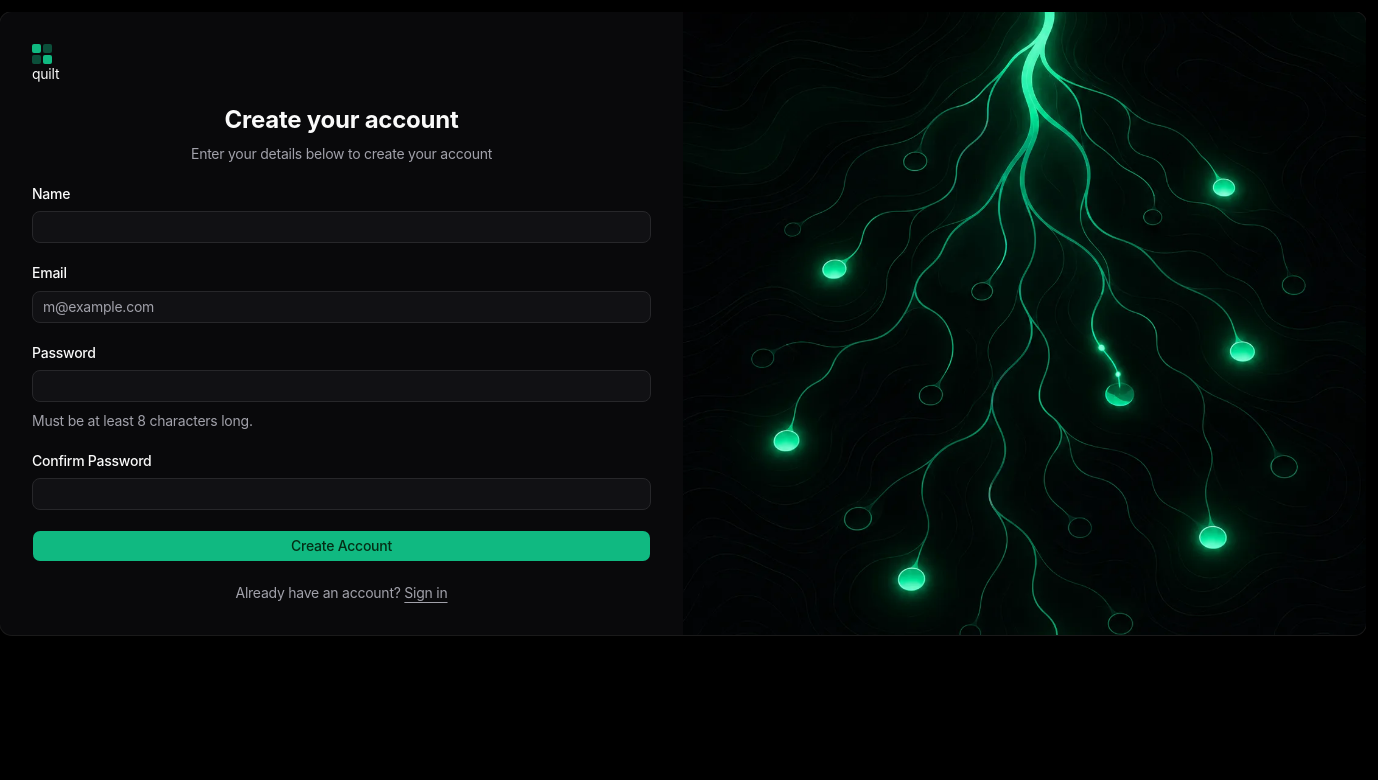
SignupForm › shows validation errors and does not submit invalid input
This screenshot has width=1378, height=780.
Type "A" into the field labelled "Name".
click(342, 227); type("A")  # box x1=32 y1=211 x2=651 y2=243
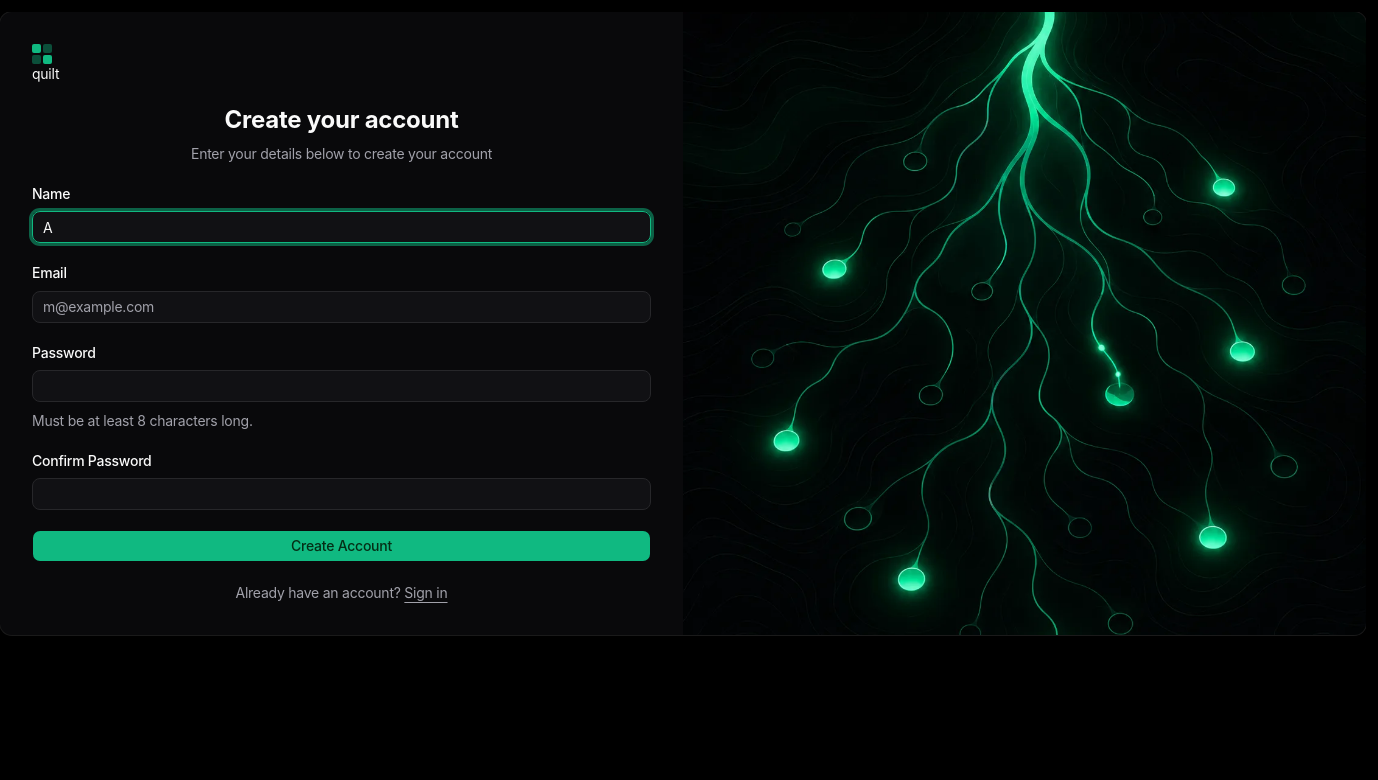
Type "ada@example" into the field labelled "Email".
click(342, 306); type("ada@example")  # box x1=32 y1=290 x2=651 y2=322
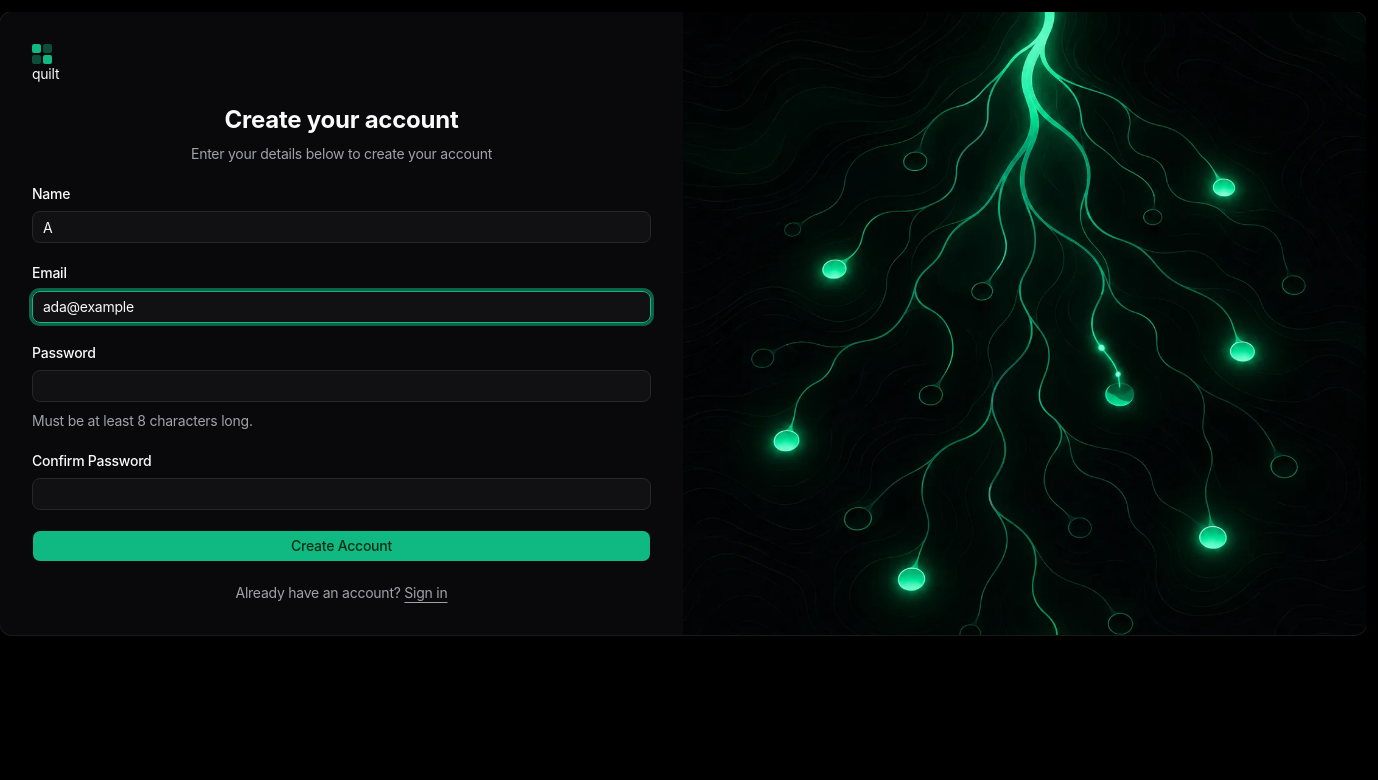
Type "short" into the password field labelled "Password".
click(342, 386); type("short")  # box x1=32 y1=370 x2=651 y2=402
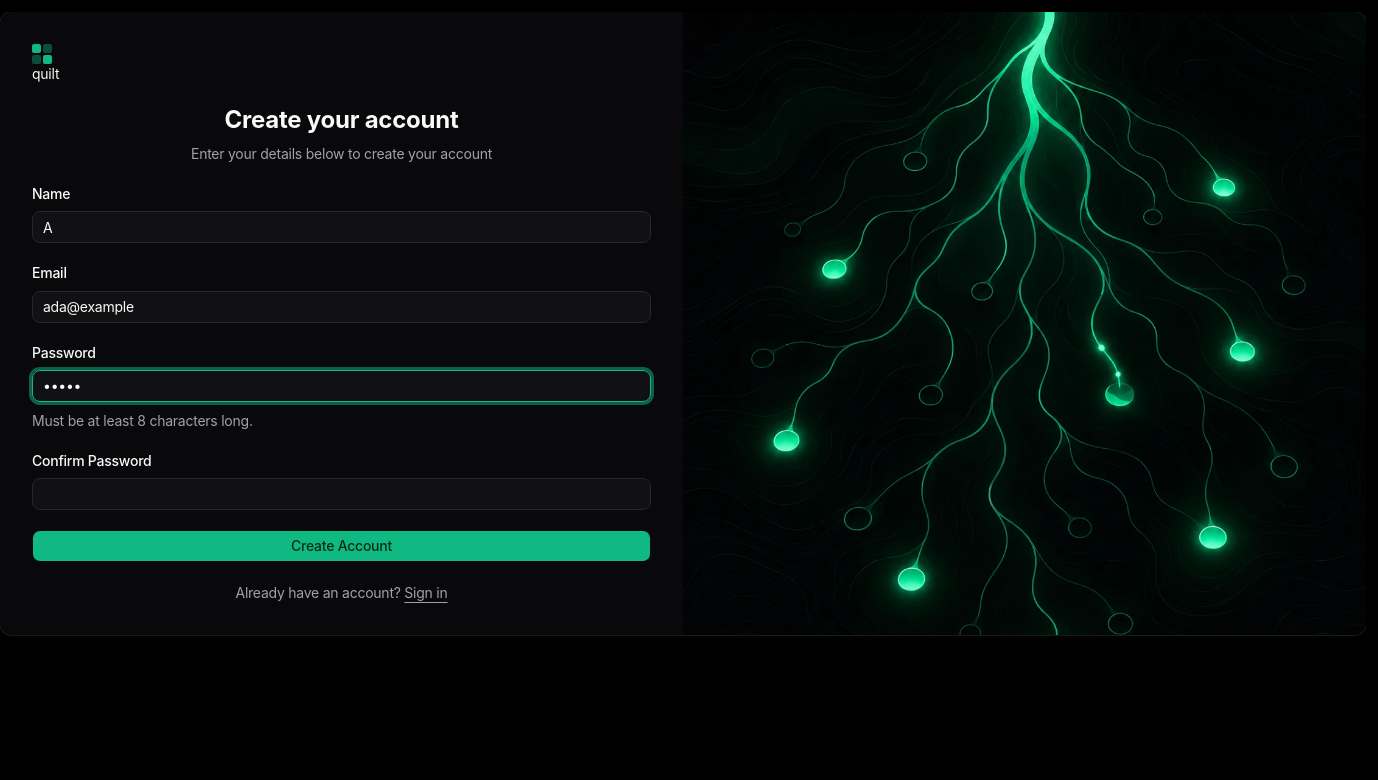
Type "short" into the password field labelled "Confirm Password".
click(342, 494); type("short")  # box x1=32 y1=478 x2=651 y2=510
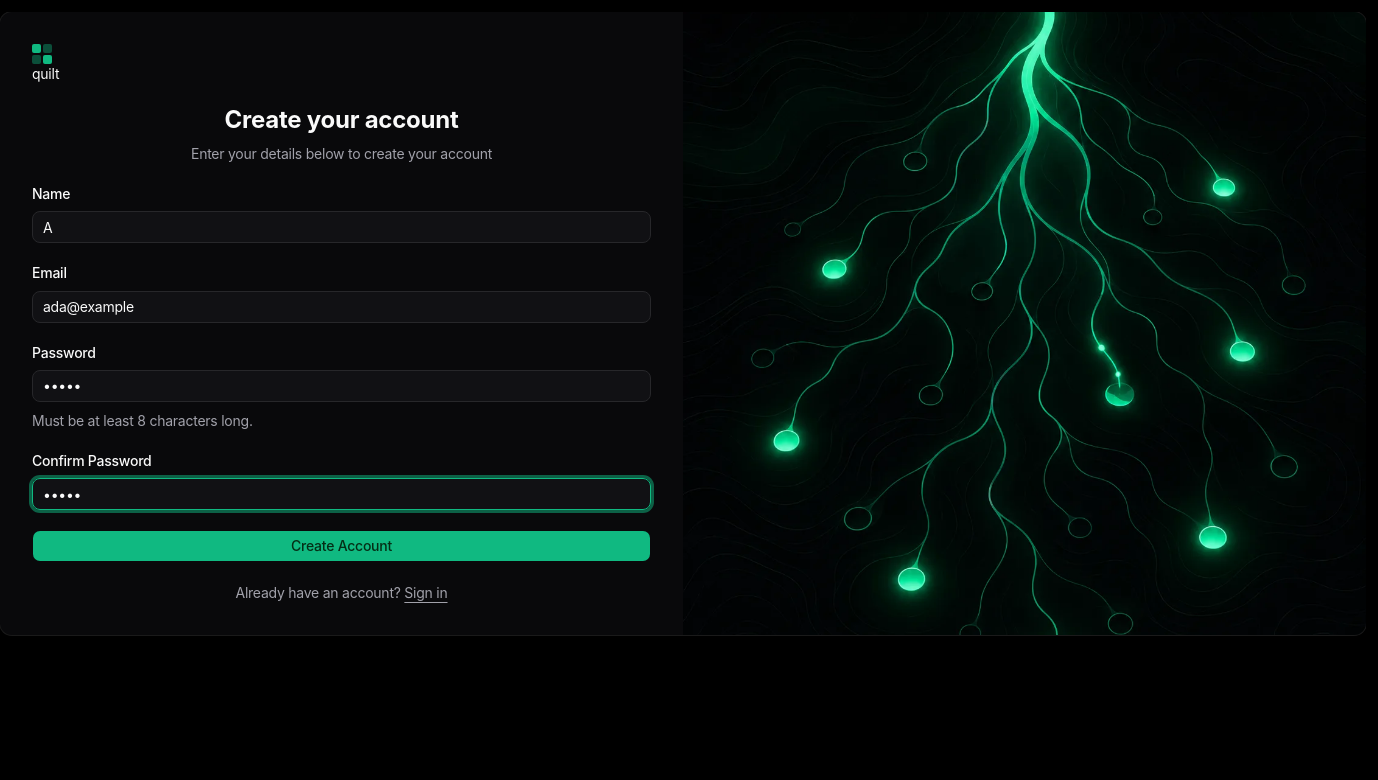
Click the button "Create Account".
click(342, 546)  # box x1=32 y1=530 x2=651 y2=562
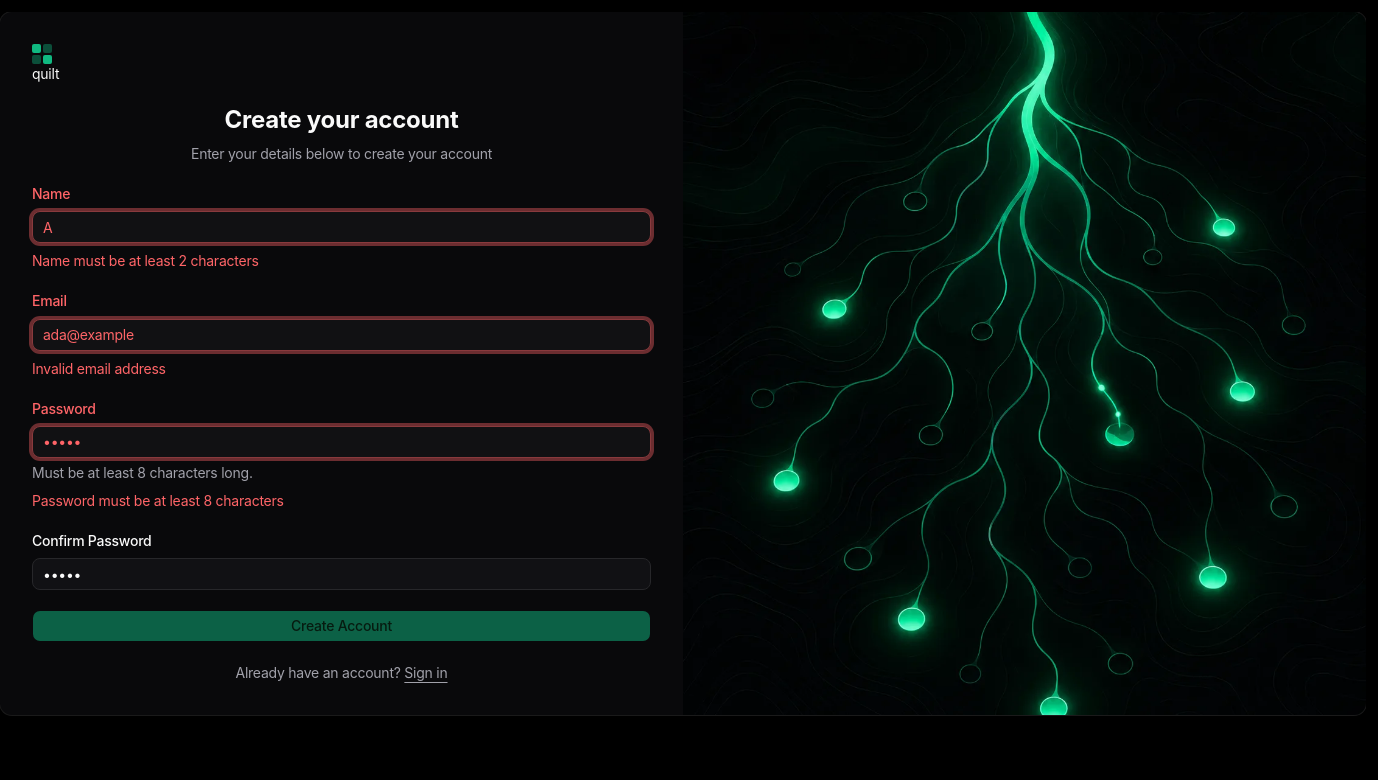
Check: the text "Name must be at least 2 characters" is shown, box x1=32 y1=252 x2=259 y2=269
Check: the text "Invalid email address" is shown, box x1=32 y1=360 x2=166 y2=376
Check: the text "Password must be at least 8 characters" is shown, box x1=32 y1=492 x2=284 y2=509
